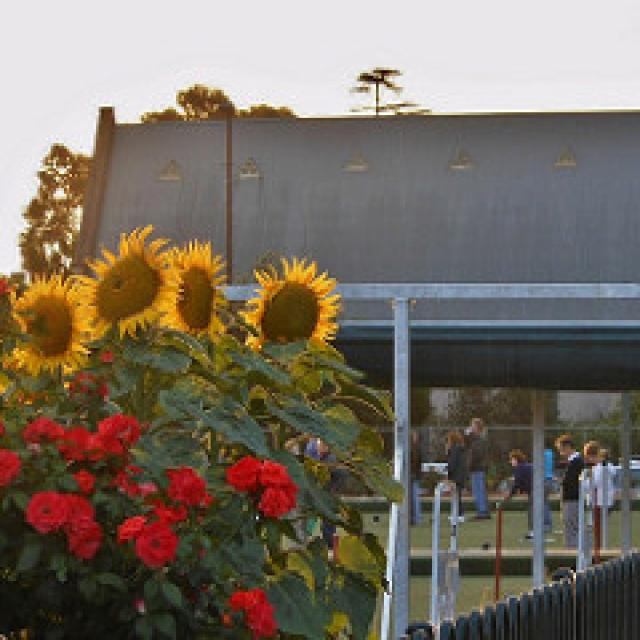sunflower: (238, 257, 352, 354), (0, 279, 97, 369), (82, 242, 170, 338), (167, 249, 228, 341)
